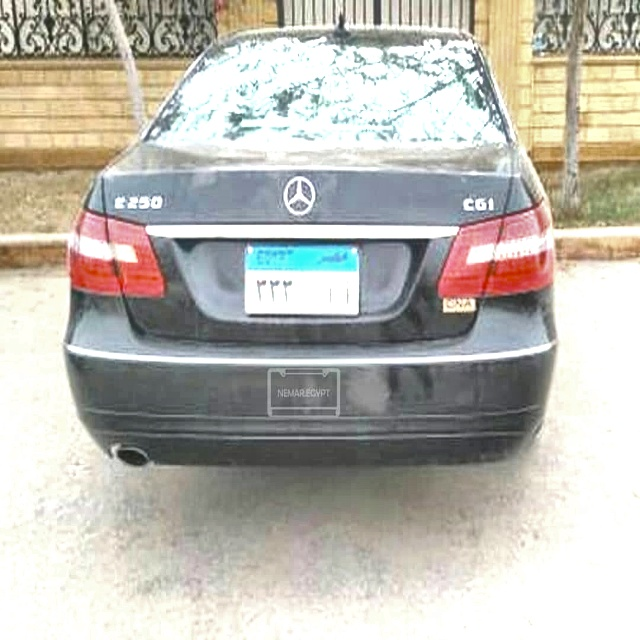License Plate: (239, 234, 363, 320)
